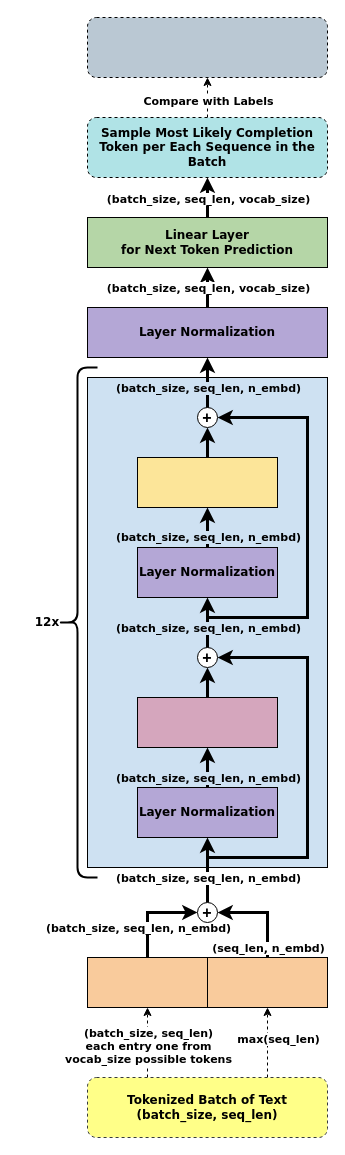
The diagram is 345 pixels wide and 1155 high, and some of its shapes have lost their labels. Here are the shapes that lost their labels. From the top down, the centre of each, then its label:
At (x=207, y=47): "Calculate Cross Entropy Loss and Backpropagate".
At (x=207, y=482): "Feed Forward".
At (x=207, y=722): "Masked Multi-Head Self-Attention".
At (x=147, y=982): "Token Embed".
At (x=267, y=982): "Position Embed".
